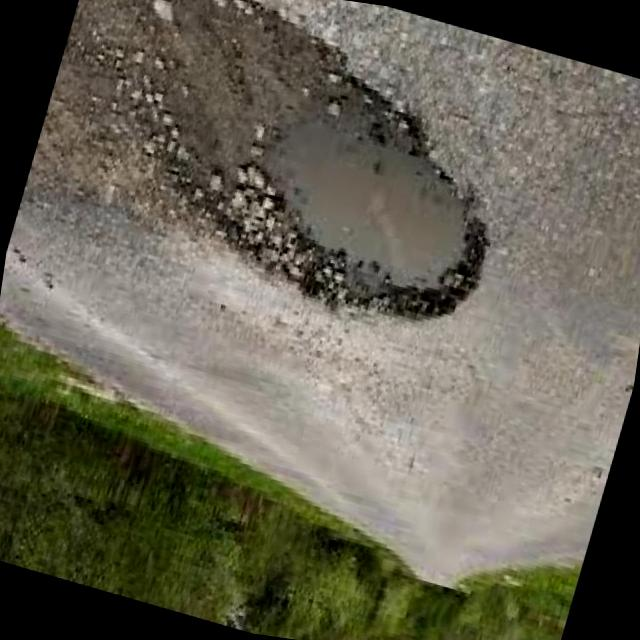Pathole: (209, 11, 489, 318)
